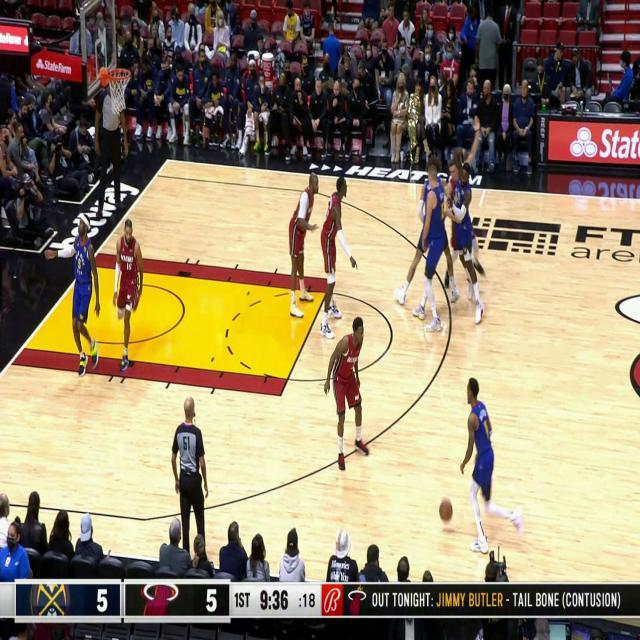rim: (440, 498, 452, 522)
